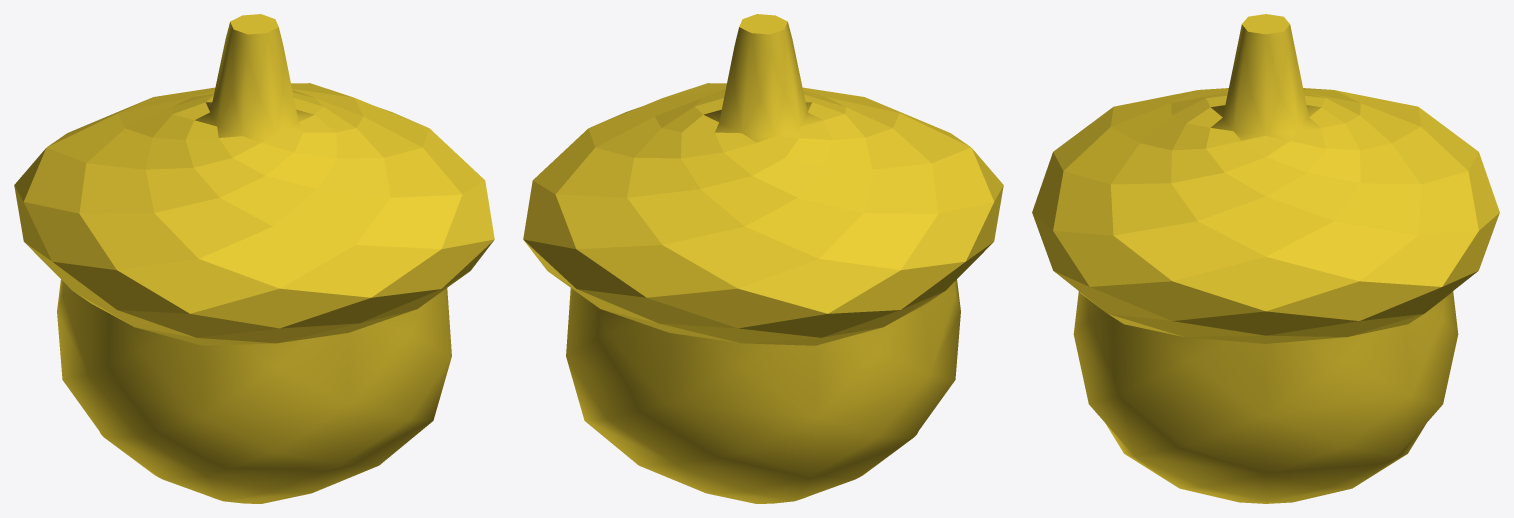
File: GoldenAcorn.fbx
3 views of the same model, side by side, from view 1: azimuth 30°, elevation 25°; view 2: azimuth 150°, elevation 25°; view 3: azimuth 270°, elevation 25° (orthographic).
Visible parts, largest first — view 1: Plane; view 2: Plane; view 3: Plane.
Part boxes in pixels (x1=…): Plane: x1=14, y1=14, x2=494, y2=503; Plane: x1=523, y1=14, x2=1003, y2=503; Plane: x1=1032, y1=14, x2=1499, y2=503.
Bounding box in the file's own units: 315 × 355 × 315.
